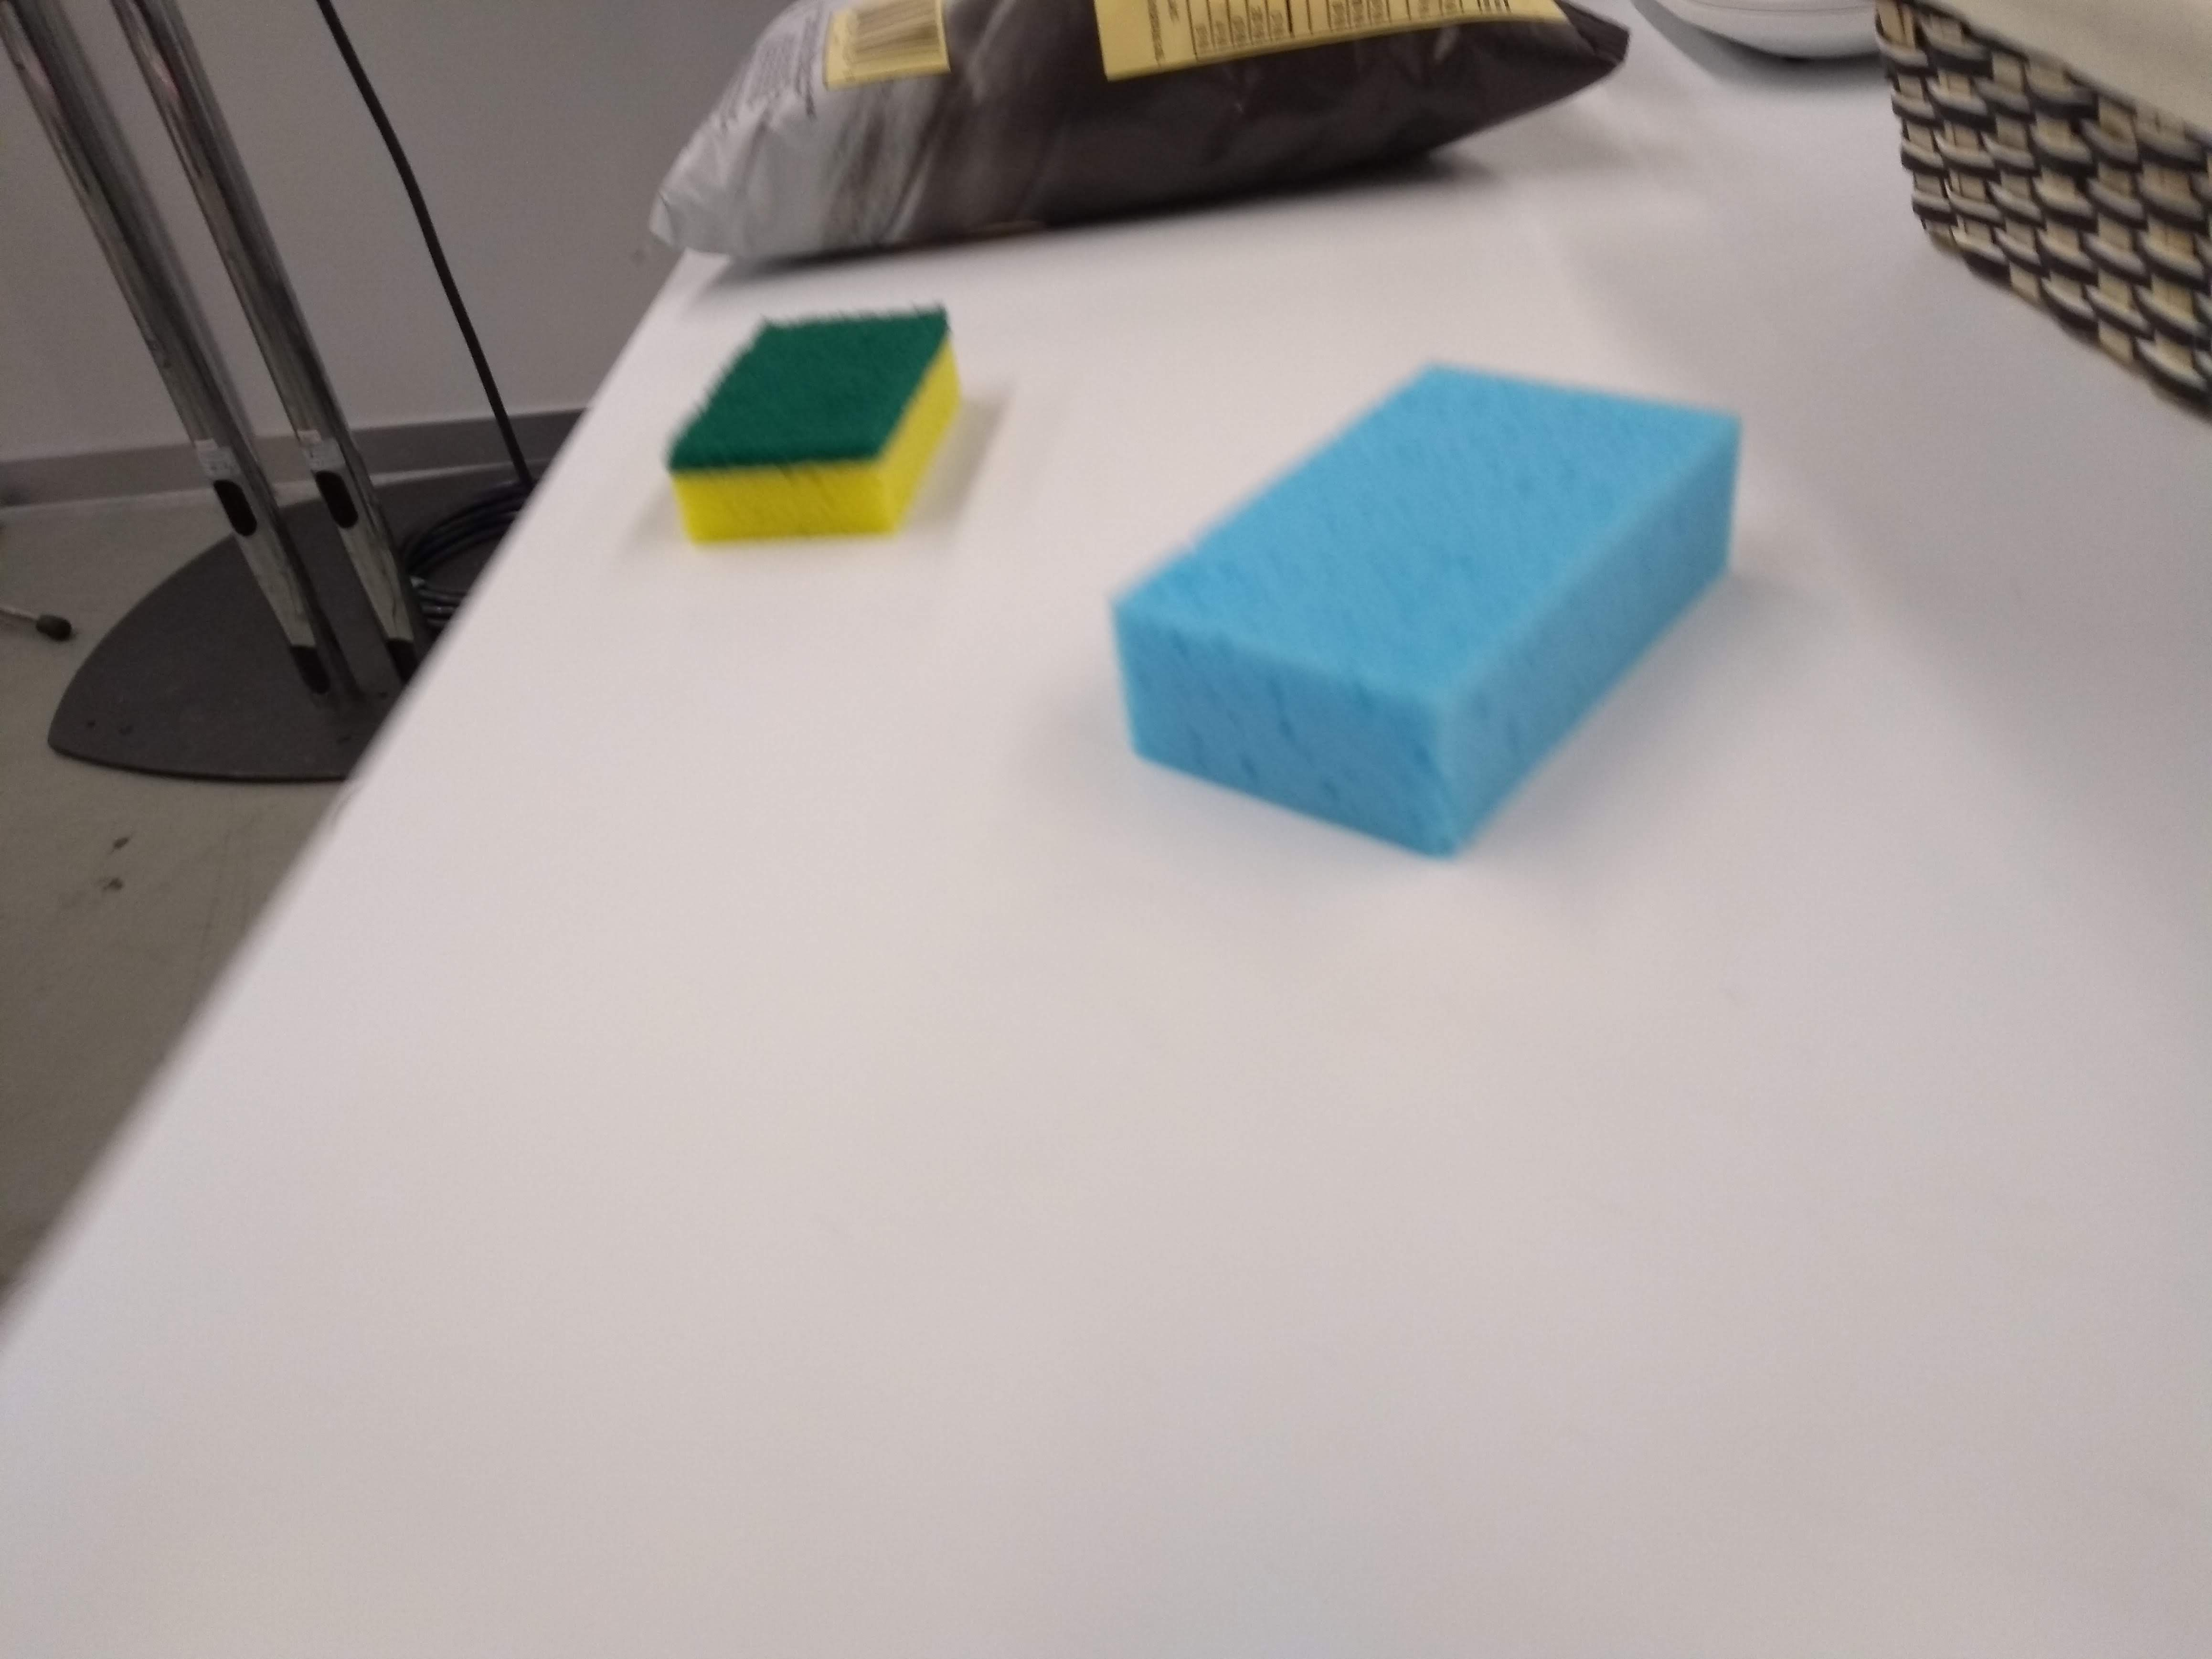scrubby: (667, 296, 975, 552)
sponge_opl: (1104, 345, 1764, 870)
